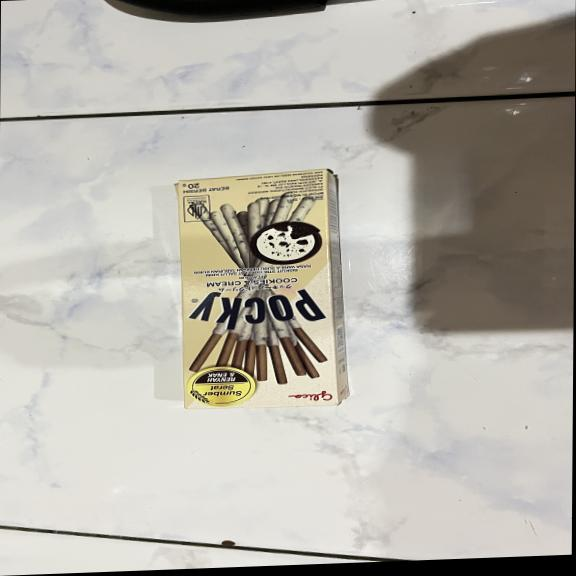Kertas: (169, 167, 343, 407)
